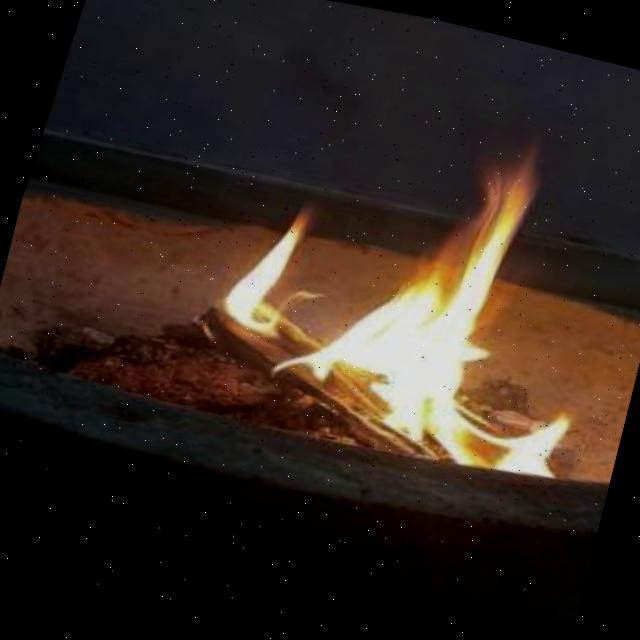fire: (192, 91, 631, 493)
